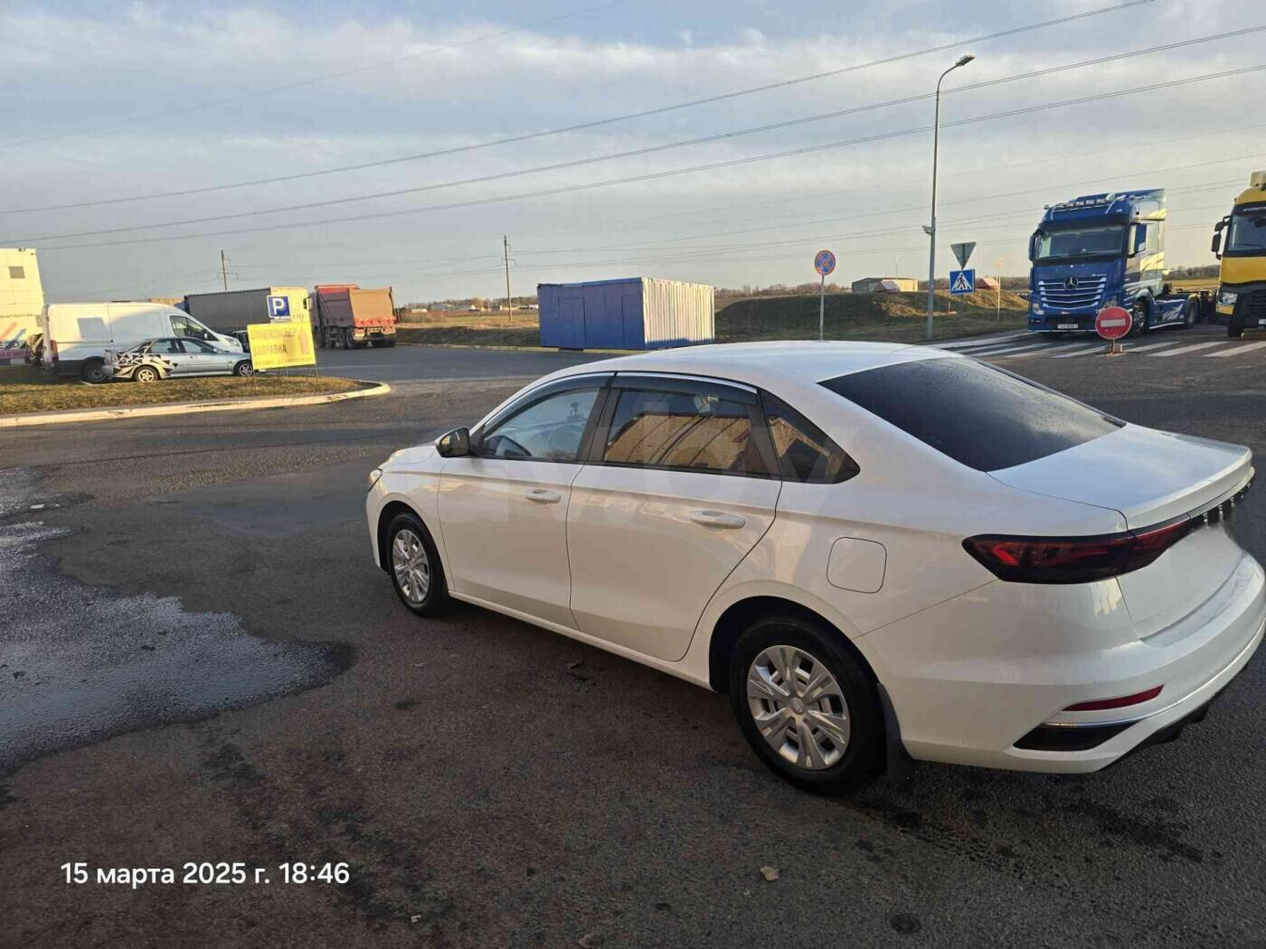Emgrand_2021: (357, 338, 1266, 803)
